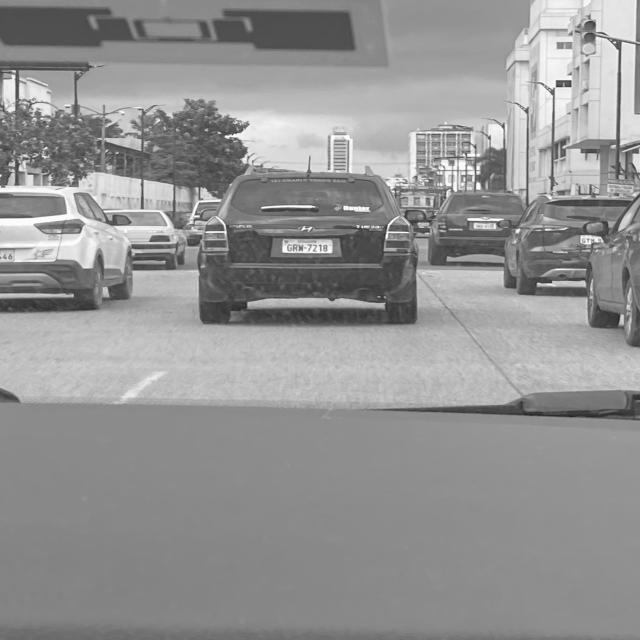Placa: (282, 239, 333, 254), (580, 235, 602, 245), (0, 249, 15, 262), (474, 223, 496, 229), (418, 223, 429, 228)
